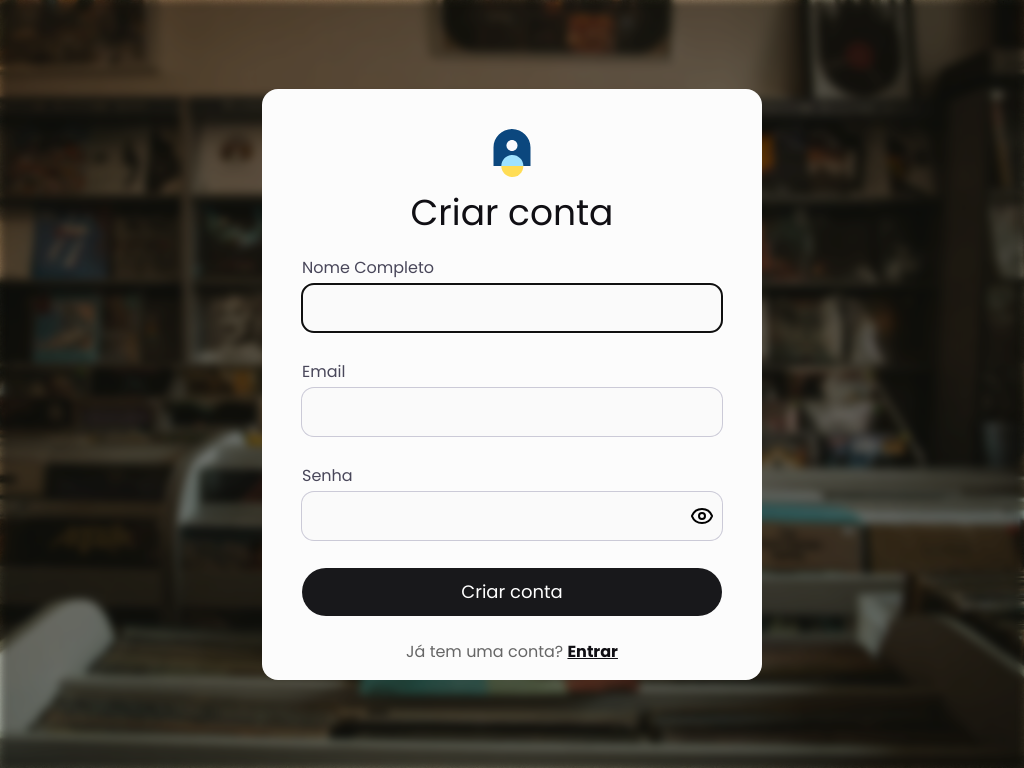
Test: SignUp Page › should disable submit button while loading
In the field labelled "Nome Completo": (512, 308) [302, 284, 722, 332], type "valid name"
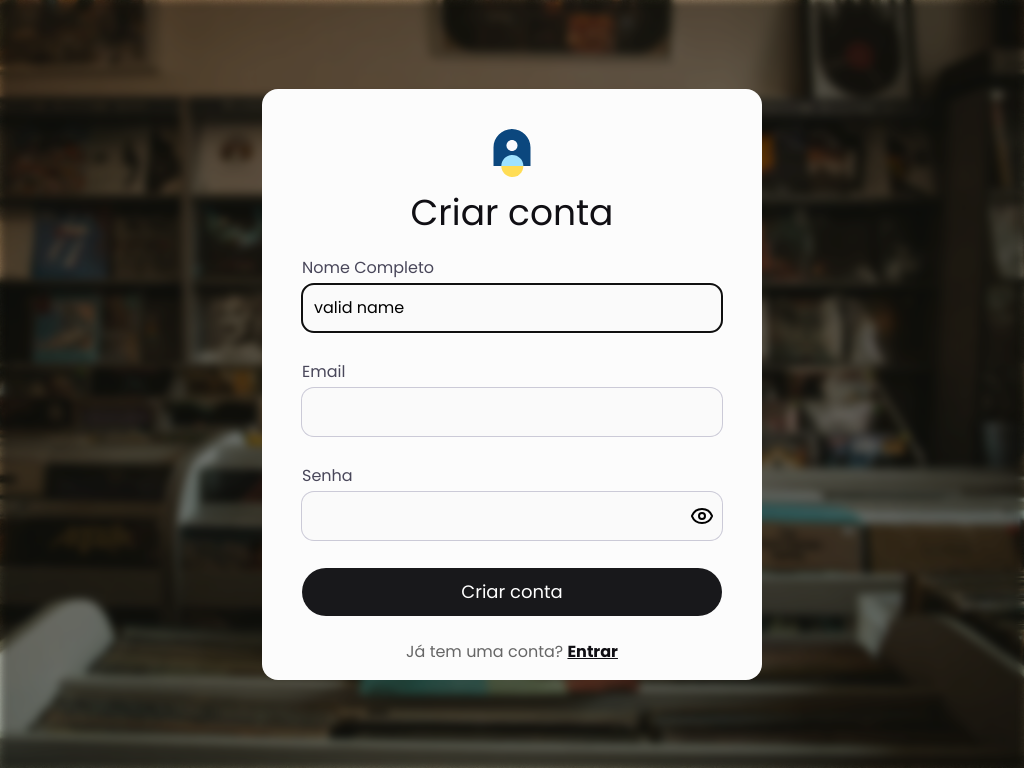
In the field labelled "Email": (512, 412) [302, 388, 722, 436], type "valid_email@email.com"
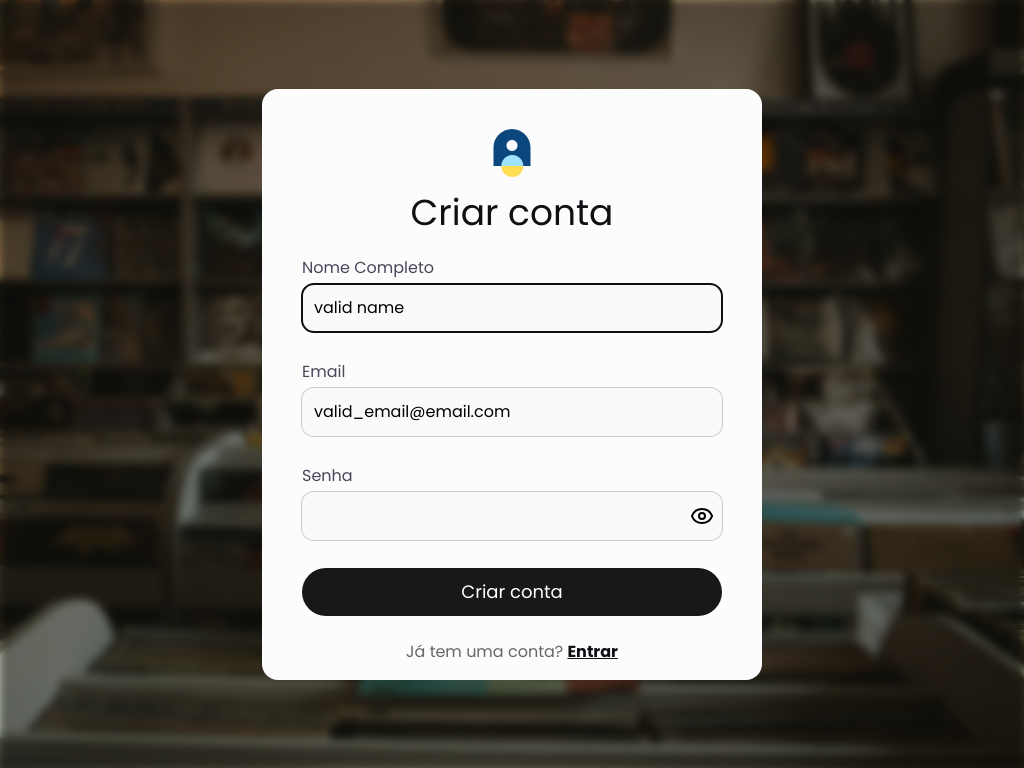
In the password field labelled "Senha": (512, 516) [302, 492, 722, 540], type "validPassword"
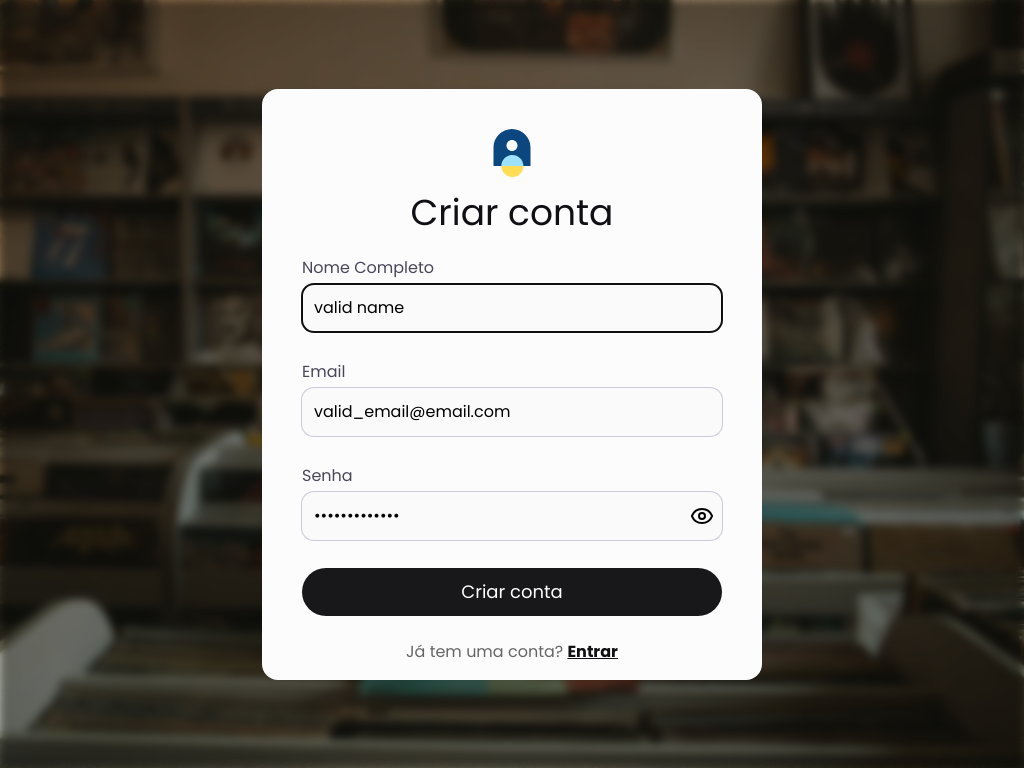
Click the button: (512, 592) [302, 568, 722, 616]
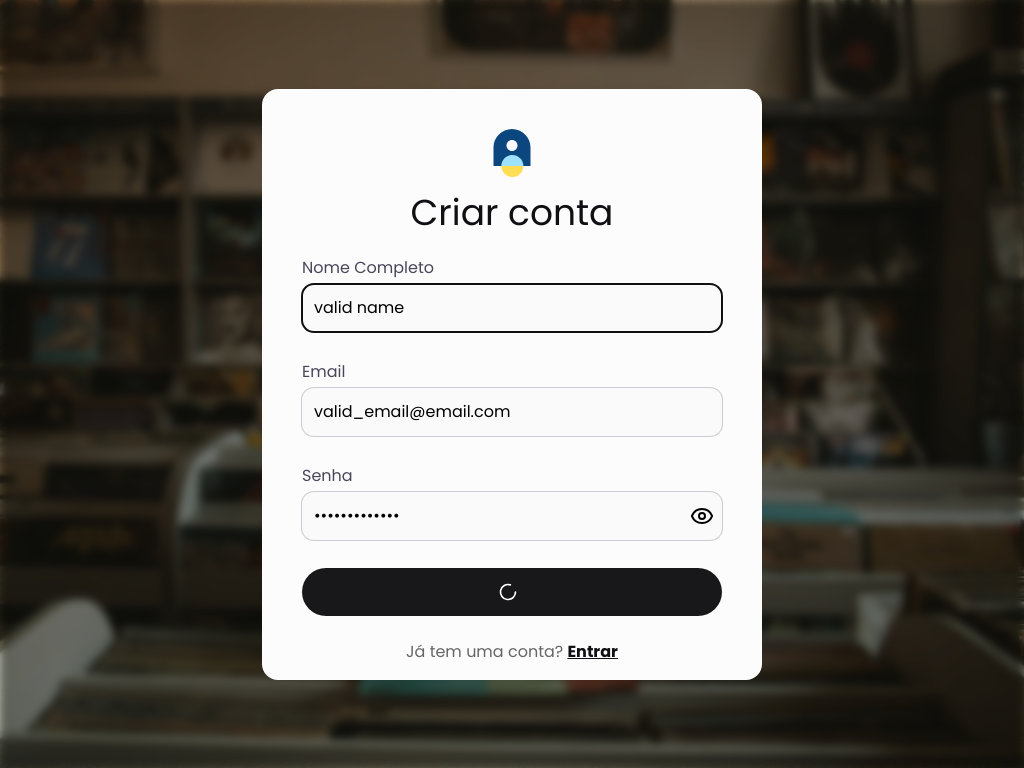
Expected: the button is disabled, [302, 568, 722, 616]
Expected: the icon with test id "loader" is shown, [498, 582, 518, 602]
